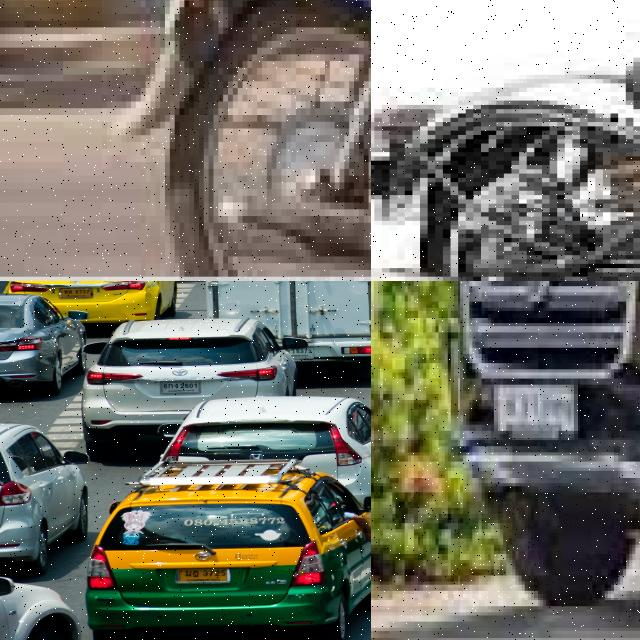bike: (371, 0, 640, 281), (121, 0, 371, 281)
car: (395, 281, 640, 615), (89, 468, 371, 640), (86, 314, 298, 468), (155, 393, 371, 526), (158, 406, 371, 477), (0, 423, 93, 581), (0, 296, 85, 406), (6, 281, 182, 334), (0, 552, 84, 640)
